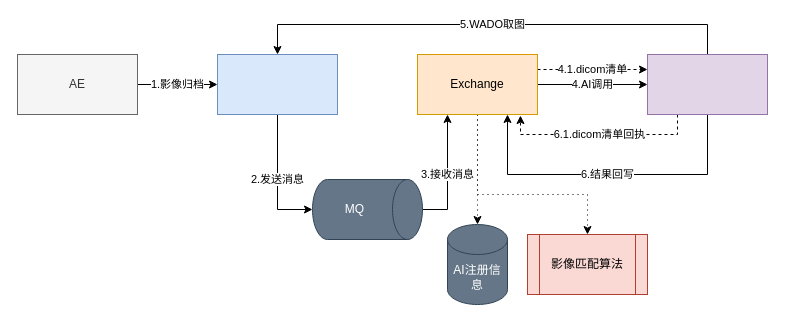
Some shapes in this 785 by 322 pixel diagram are drawn without their labels. The centre of each missing label's shape, as x and y in pixels:
AI: point (707, 84)
Cetus: point (277, 84)
